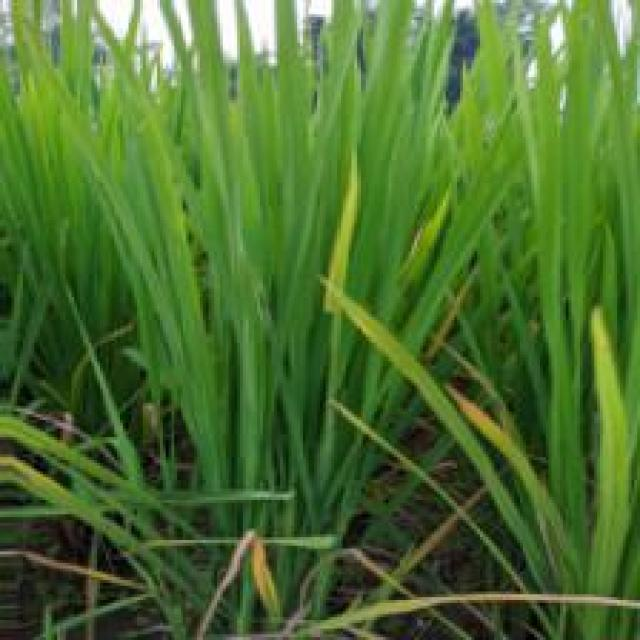HealthyLeaf: (14, 0, 418, 530), (472, 0, 640, 512)
